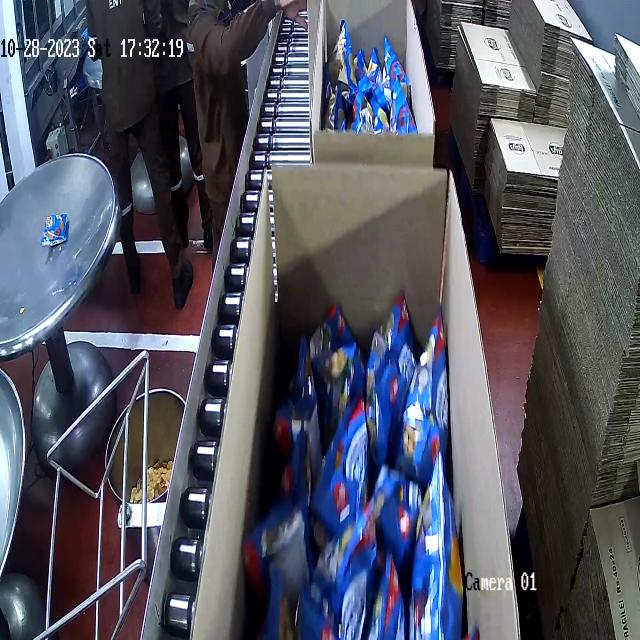PAPRIKA: (274, 300, 477, 640), (321, 32, 413, 129)
